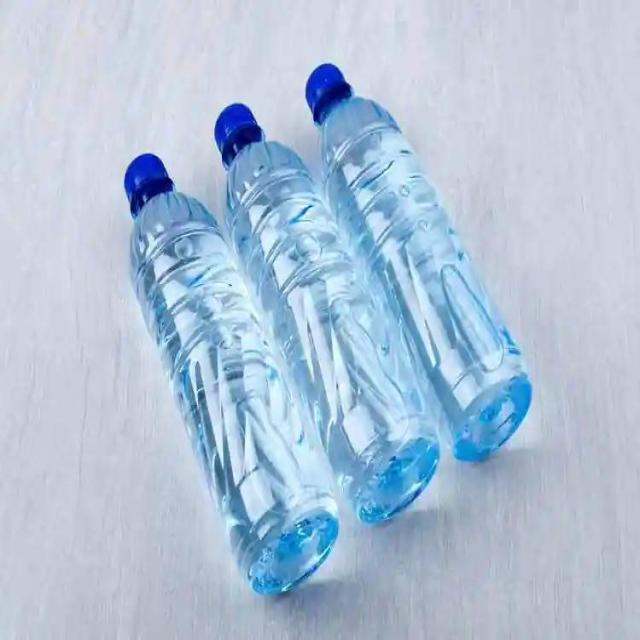bottle: (105, 131, 347, 613), (301, 52, 550, 475), (206, 99, 418, 518)
